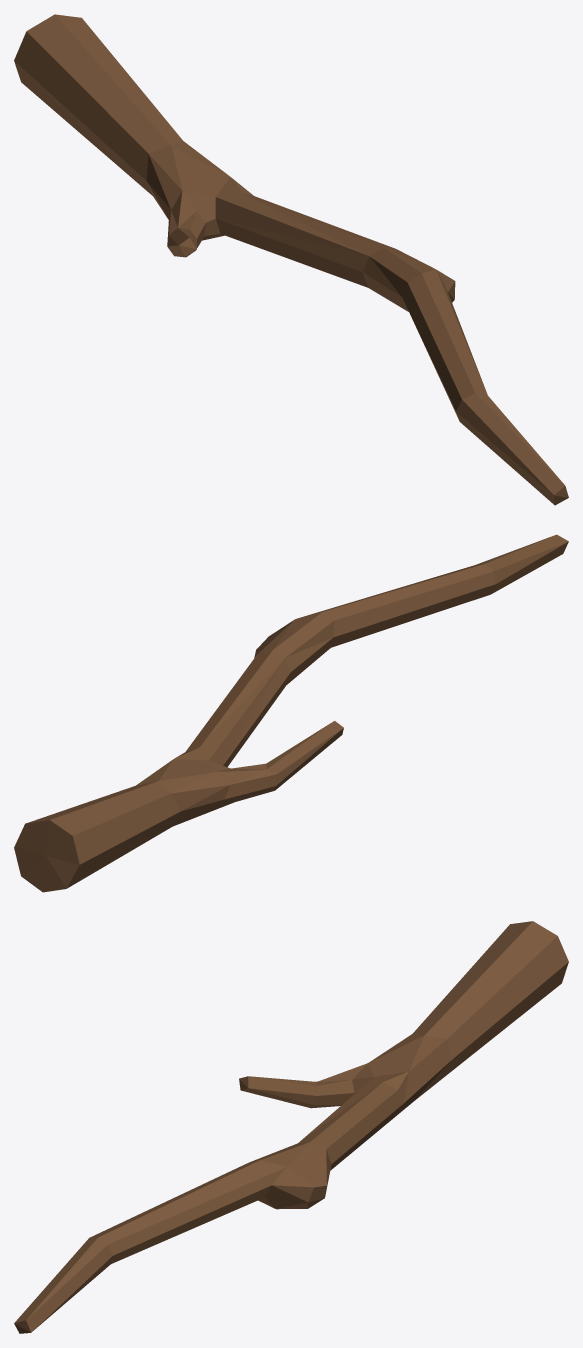
The model's file is mesh_branch_pine_02.fbx.
3 views of the same model, one above another, from view 1: azimuth 30°, elevation 25°; view 2: azimuth 150°, elevation 25°; view 3: azimuth 330°, elevation 25° (orthographic). The views are drawn at different scales.
Visible parts, largest first — view 1: mesh_branch_pine_02; view 2: mesh_branch_pine_02; view 3: mesh_branch_pine_02.
Boxes of the visible parts, box(x1,y1,x2,y2) form: mesh_branch_pine_02: box(14, 14, 568, 505); mesh_branch_pine_02: box(14, 534, 568, 892); mesh_branch_pine_02: box(14, 921, 568, 1333).
Size of the model in its own units: 0.3573 by 0.1833 by 1.87.
